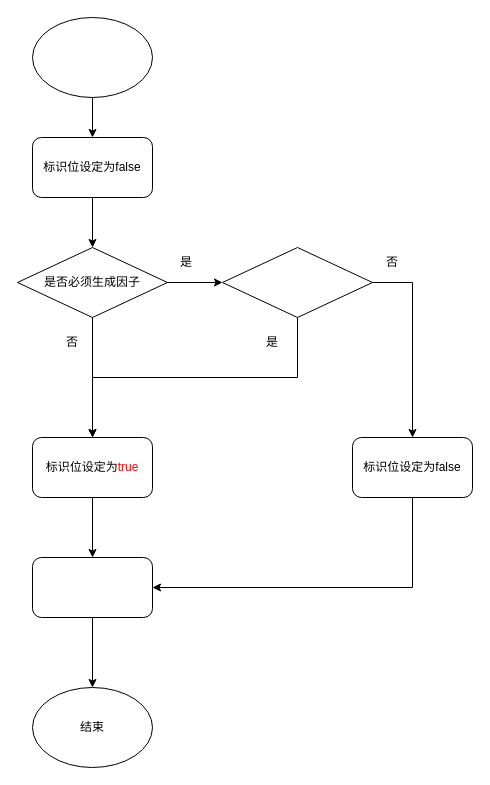
This 490x785 diagram has some shape labels left out. The centre of each missing label's shape, as x and y in pixels:
开始: the point at 92,57
插入条数是否 > 0: the point at 297,282
更新标识位: the point at 92,587
